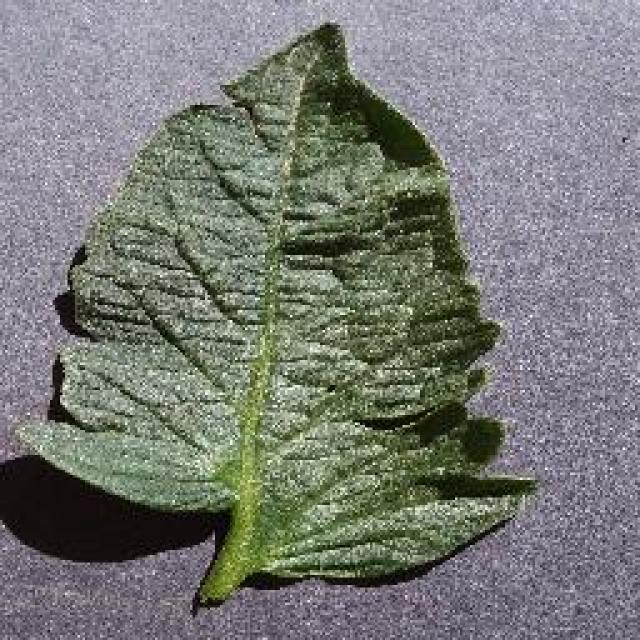Tomato_Healthy: (11, 20, 552, 567)
